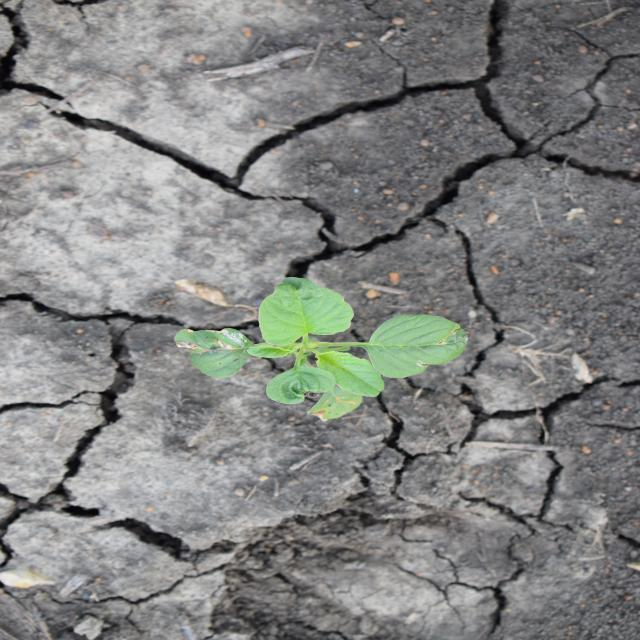PalmerAmaranth: (171, 274, 470, 422)
